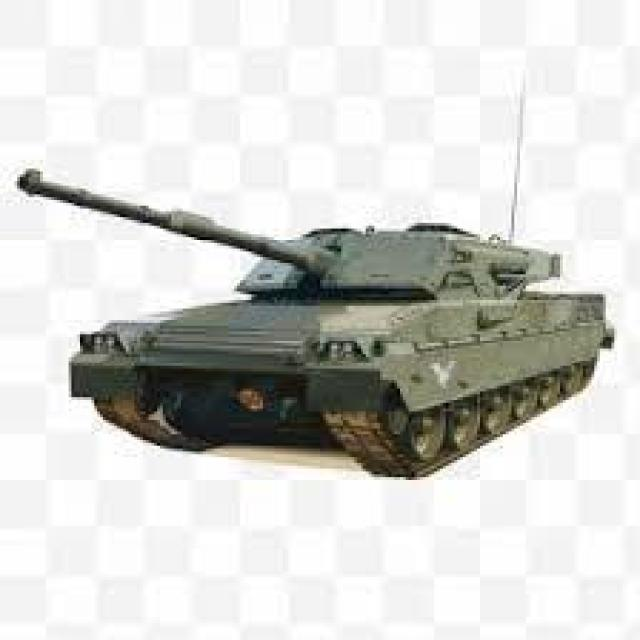Tanks: (48, 168, 623, 503)
